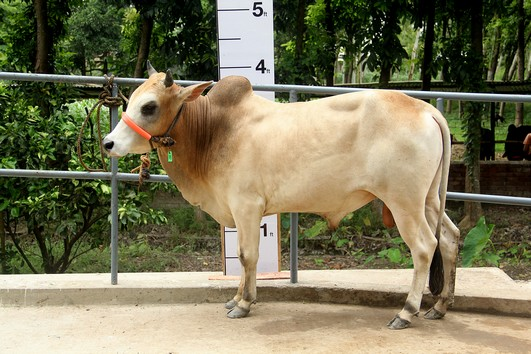cow: (99, 56, 471, 331)
